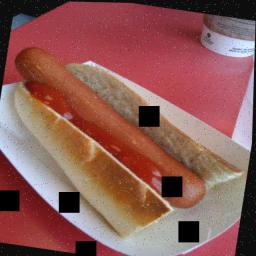hotdog: (122, 123, 220, 215), (68, 78, 136, 147), (6, 40, 78, 96)
